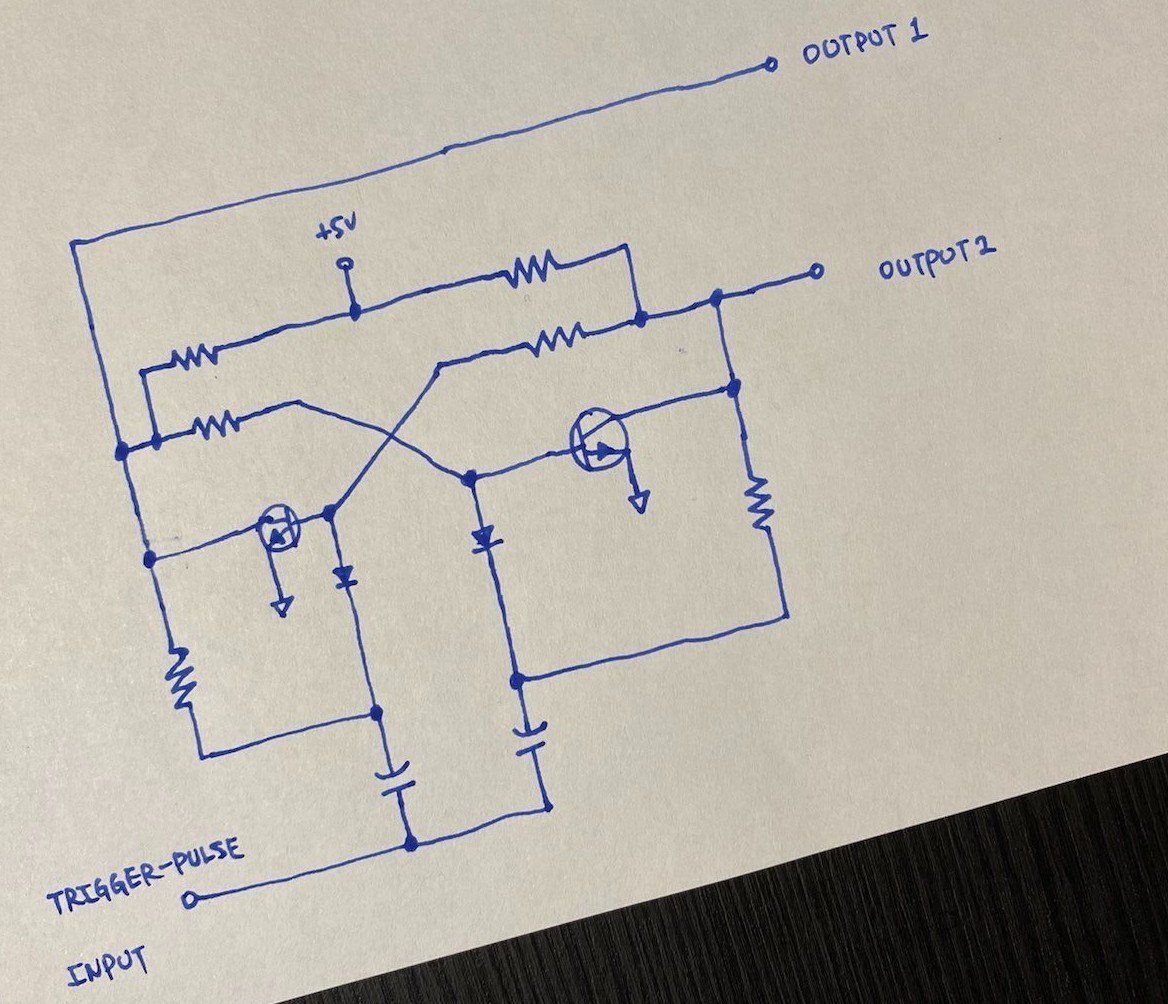capacitor.unpolarized: (503, 717, 559, 763), (370, 758, 425, 800)
diode: (468, 516, 506, 560), (328, 552, 365, 597)
gnd: (622, 481, 660, 522), (267, 586, 301, 624)
junction: (719, 371, 754, 409), (500, 664, 536, 700), (394, 828, 429, 863), (452, 462, 488, 496), (770, 598, 805, 632), (621, 302, 657, 333), (699, 282, 733, 314), (611, 232, 641, 268), (183, 742, 223, 768), (314, 496, 346, 527), (375, 419, 407, 450), (529, 794, 565, 821), (361, 699, 396, 726), (129, 358, 160, 388), (341, 297, 369, 328), (136, 546, 166, 574), (109, 434, 134, 467), (61, 228, 87, 259), (143, 429, 170, 456), (427, 352, 451, 382), (287, 389, 309, 416)
resistor: (520, 318, 598, 360), (493, 247, 562, 291), (162, 644, 203, 716), (742, 471, 781, 536), (186, 408, 248, 445), (167, 341, 229, 371)
terminal: (167, 885, 223, 915), (787, 257, 833, 288), (743, 50, 786, 81), (330, 249, 363, 286)
text: (44, 834, 246, 915), (802, 15, 932, 64), (875, 234, 1000, 279), (63, 945, 154, 989), (312, 211, 366, 243)
transistor: (565, 403, 636, 472), (253, 497, 305, 558)
